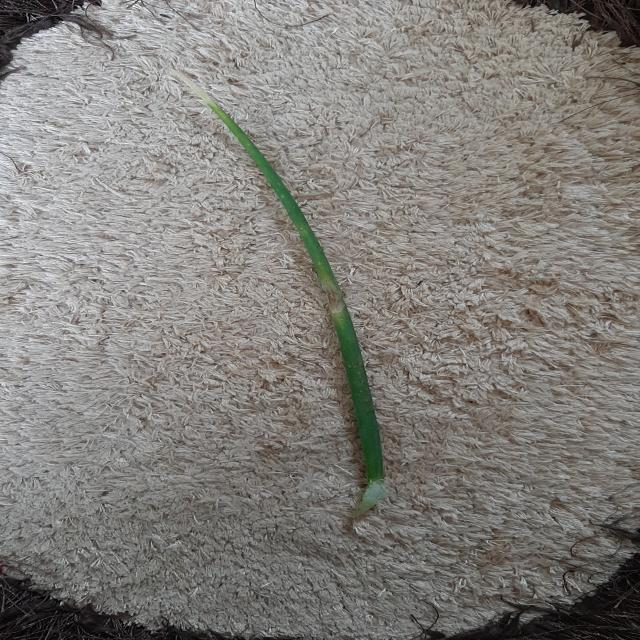onion: (171, 70, 387, 516)
